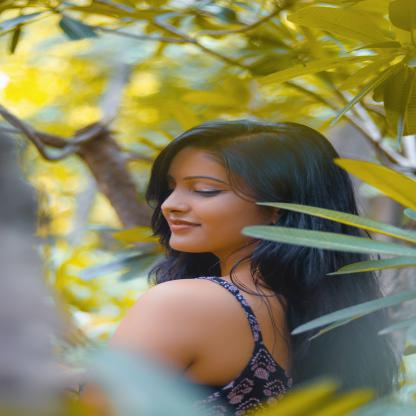Eye: (187, 184, 228, 199)
Mouth: (162, 217, 206, 236)
Nose: (160, 191, 192, 217)
